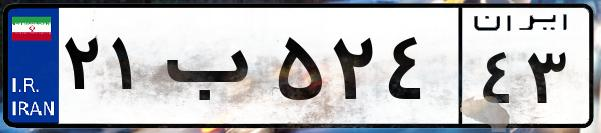1: (110, 28, 158, 98)
2: (330, 28, 385, 110), (57, 26, 110, 100)
3: (525, 38, 570, 115)
4: (385, 28, 445, 110), (475, 38, 525, 113)
5: (270, 28, 330, 110)
ب: (158, 20, 270, 120)
